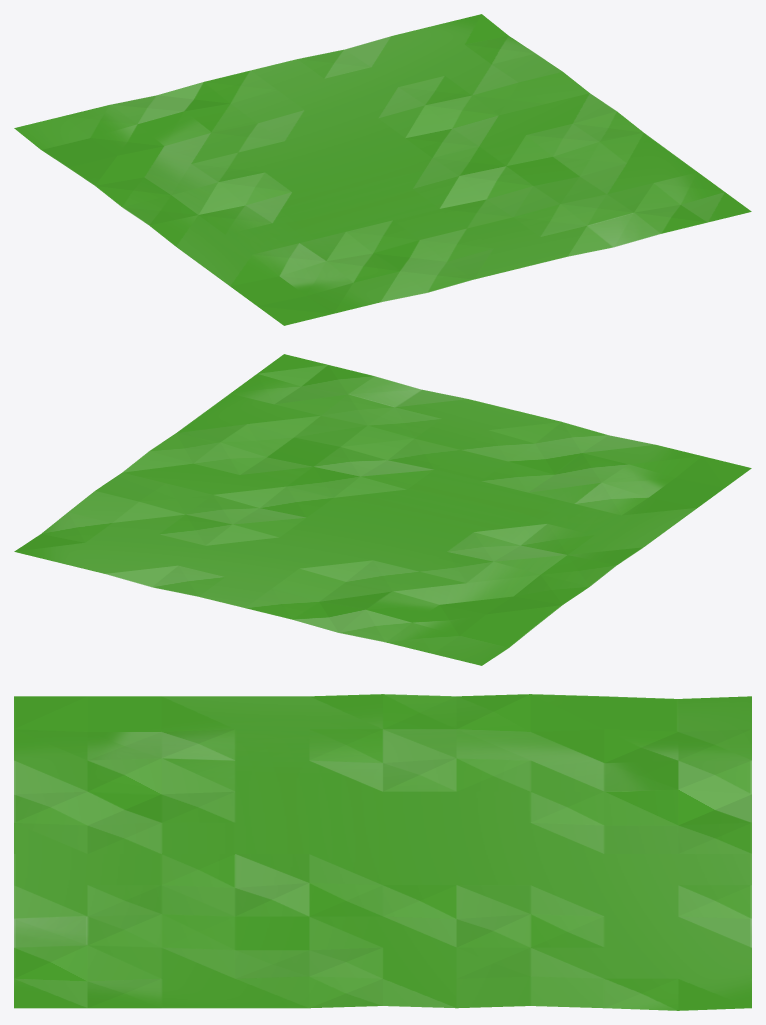
The model's file is Field.obj.
3 views of the same model, one above another, from view 1: azimuth 30°, elevation 25°; view 2: azimuth 150°, elevation 25°; view 3: azimuth 270°, elevation 25° (orthographic). The views are drawn at different scales.
Parts seen in each view (by area): view 1: Field; view 2: Field; view 3: Field.
Part boxes in pixels (x1,y1,x2,y2): Field: [14, 14, 751, 325]; Field: [14, 354, 751, 665]; Field: [14, 694, 751, 1010].
Size of the model in its own units: 40 by 0.2915 by 40.
